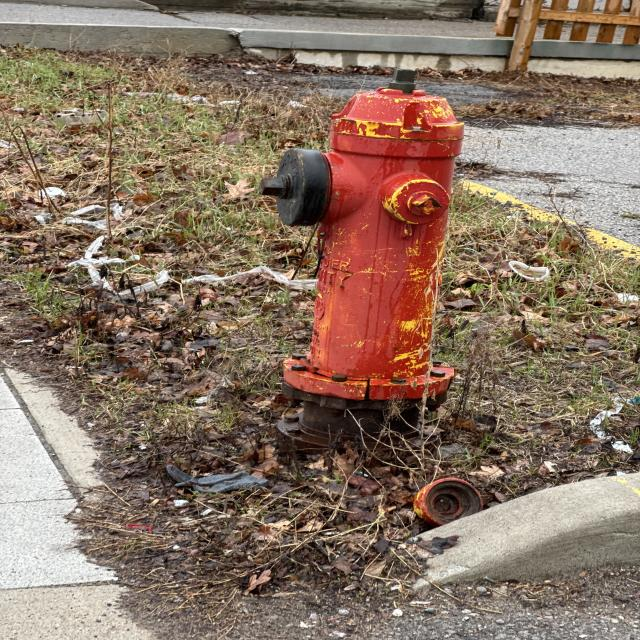Fire hydrant: (258, 68, 466, 410)
